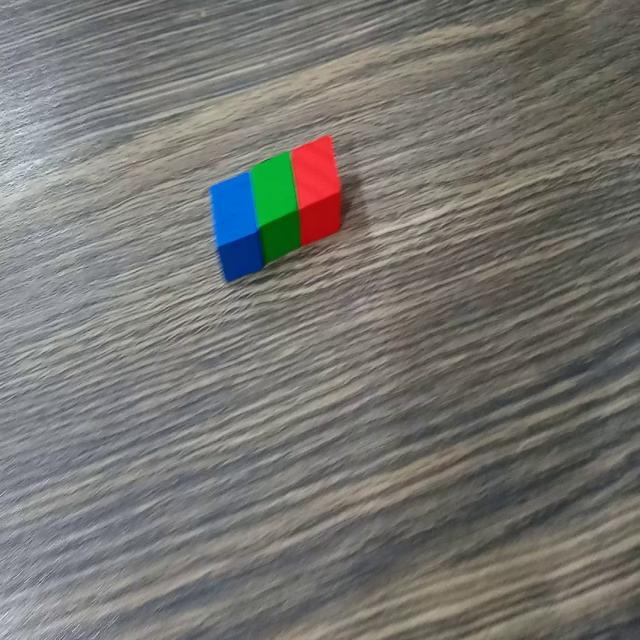cube: (291, 129, 344, 248), (206, 169, 260, 284), (249, 148, 298, 266)
